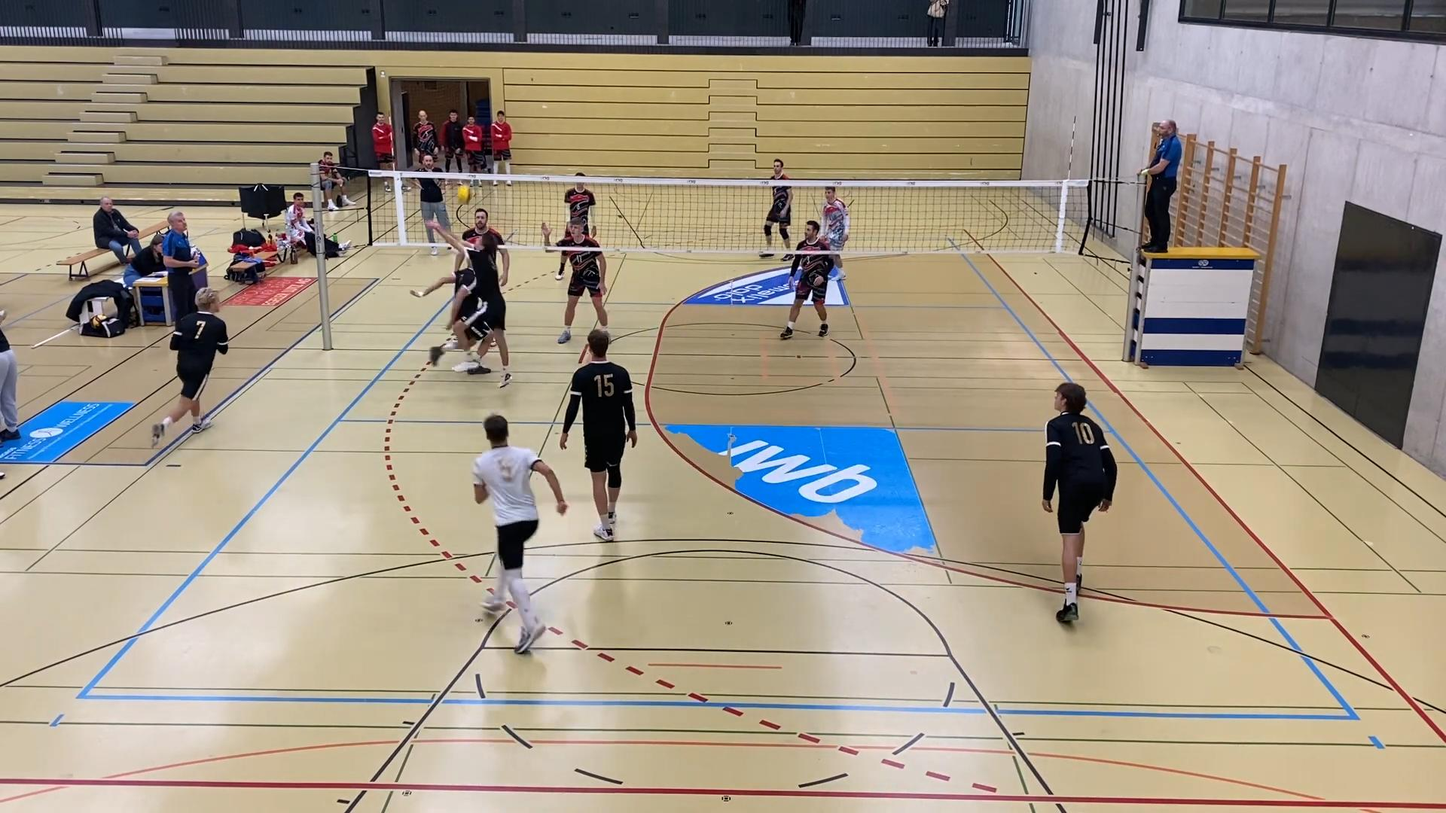Player: (473, 414, 567, 653), (1042, 382, 1117, 622), (559, 330, 636, 540), (153, 288, 227, 446), (541, 221, 607, 343), (780, 220, 836, 339), (760, 184, 792, 257), (822, 187, 849, 254), (564, 180, 596, 235)
Set: (425, 214, 513, 387)
ball: (455, 184, 473, 202)
